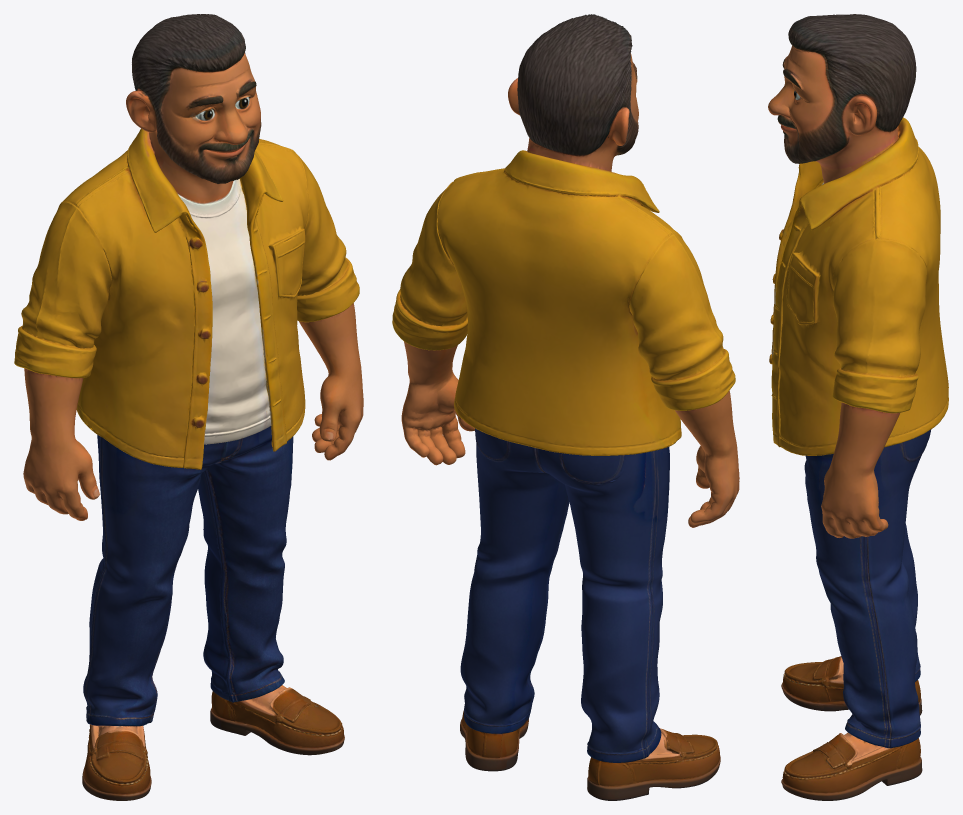
The model's file is Customer_09.glb.
The picture shows the model from 3 angles, left to right: view 1: azimuth 30°, elevation 25°; view 2: azimuth 150°, elevation 25°; view 3: azimuth 270°, elevation 25°; orthographic projection.
Visible parts, largest first — view 1: tripo_node_65fc6925-60b1-4135-8384-c3e17d5a0cfb; view 2: tripo_node_65fc6925-60b1-4135-8384-c3e17d5a0cfb; view 3: tripo_node_65fc6925-60b1-4135-8384-c3e17d5a0cfb.
Part boxes in pixels (box(x1,y1,x2,y2)): tripo_node_65fc6925-60b1-4135-8384-c3e17d5a0cfb: box(14, 14, 363, 800); tripo_node_65fc6925-60b1-4135-8384-c3e17d5a0cfb: box(392, 14, 739, 800); tripo_node_65fc6925-60b1-4135-8384-c3e17d5a0cfb: box(768, 14, 948, 800).
Size of the model in its own units: 0.4645 by 0.9801 by 0.2222.
1 material, 1 textured.
